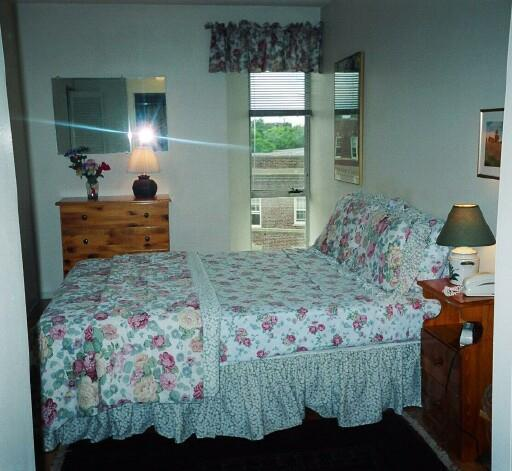Armario: (60, 205, 168, 247)
Cama: (39, 196, 438, 444)
Ventana: (244, 74, 310, 249)
